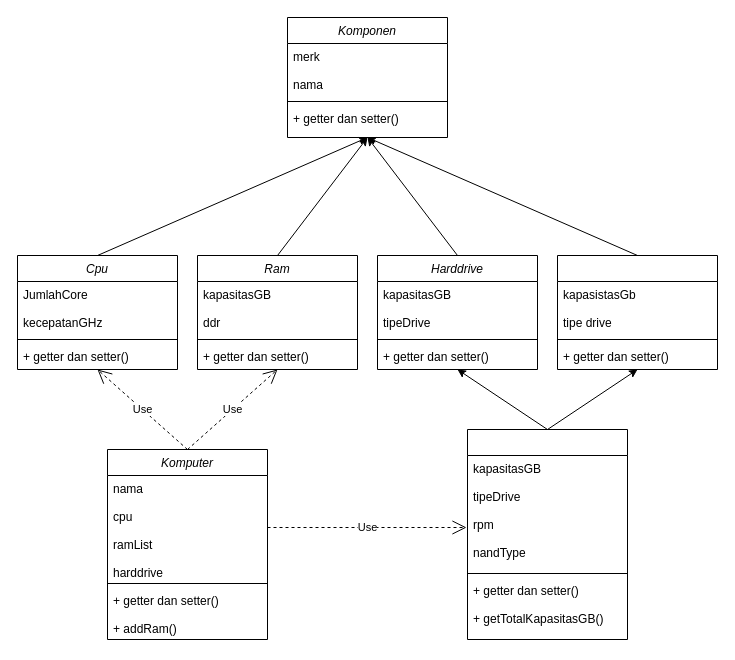
Image size: 735x660. Some labels were removed from this diagram. Each missing label, with the box of its shape:
HybridStorage: (466, 428, 628, 640)
Ssd: (556, 254, 718, 370)
